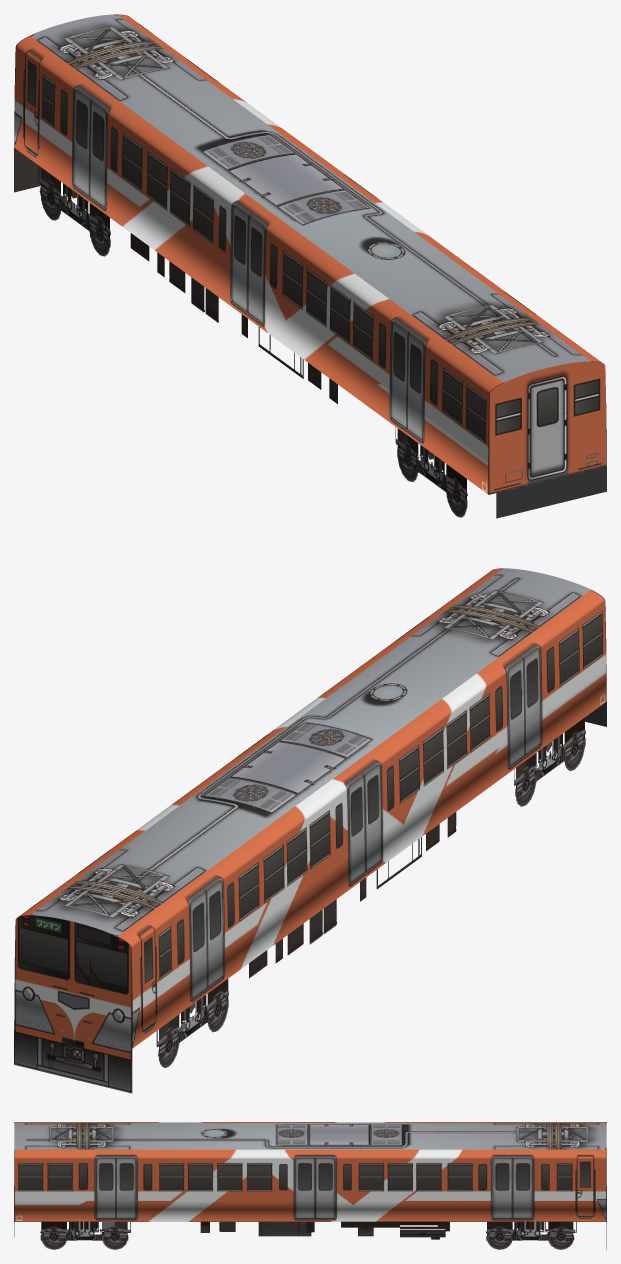
Rendered from car2.glb.
3 views of the same model, one above another, from view 1: azimuth 30°, elevation 25°; view 2: azimuth 150°, elevation 25°; view 3: azimuth 270°, elevation 25° (orthographic). The views are drawn at different scales.
Visible parts, largest first — view 1: ryutetsu5000-car2; view 2: ryutetsu5000-car2; view 3: ryutetsu5000-car2.
Boxes of the visible parts, box(x1,y1,x2,y2) form: ryutetsu5000-car2: box(14, 14, 606, 518); ryutetsu5000-car2: box(14, 568, 606, 1093); ryutetsu5000-car2: box(14, 1122, 606, 1249).
Size of the model in its own units: 2.88 by 3.66 by 20.04.
Materials: 10 (9 with a texture image).
